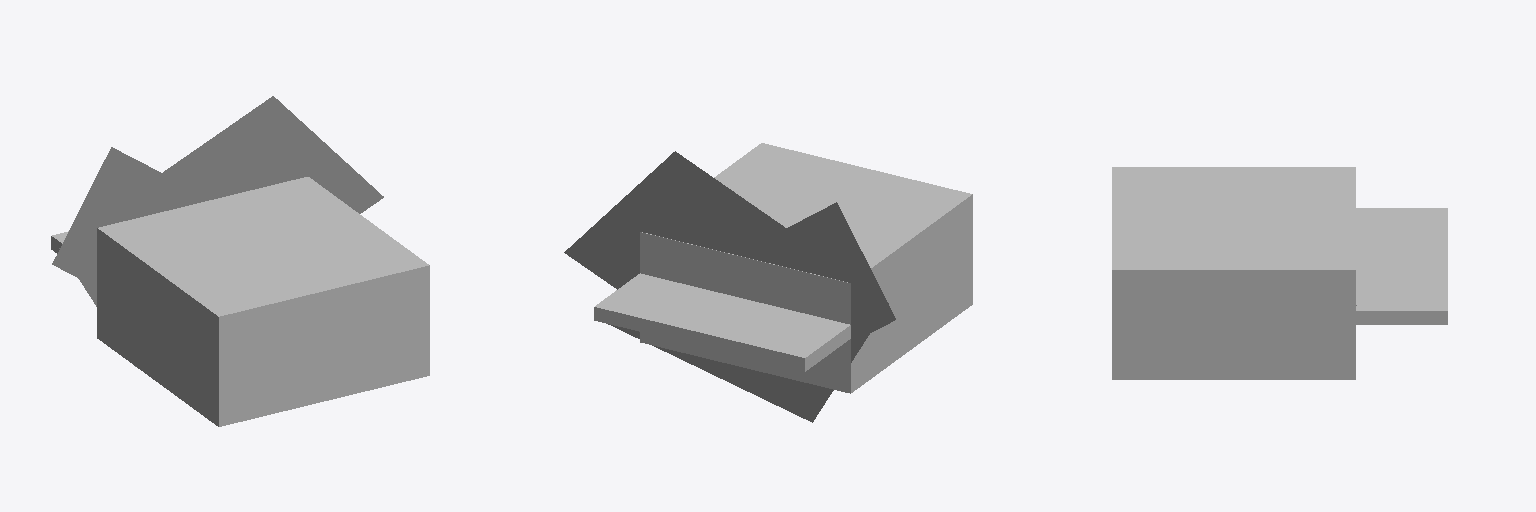
The model's file is aucman_doubledoor_caps.obj.
The picture shows the model from 3 angles: view 1: azimuth 30°, elevation 25°; view 2: azimuth 150°, elevation 25°; view 3: azimuth 270°, elevation 25°; orthographic projection.
Visible parts, largest first — view 1: co_culling, g_exploded_decals, c_box_000; view 2: co_culling, g_exploded_decals, c_box_006, c_box_000; view 3: co_culling, c_box_006, c_box_000.
Boxes of the visible parts, box(x1,y1,x2,y2) form: co_culling: box(97, 177, 429, 426); g_exploded_decals: box(52, 96, 383, 366); c_box_000: box(97, 273, 429, 371); co_culling: box(640, 143, 972, 393); g_exploded_decals: box(564, 151, 895, 422); c_box_006: box(594, 273, 850, 371); c_box_000: box(886, 237, 972, 308); co_culling: box(1112, 167, 1355, 379); c_box_006: box(1356, 208, 1447, 324); c_box_000: box(1112, 311, 1355, 324).
Bounding box in the file's own units: 630 × 432 × 550.